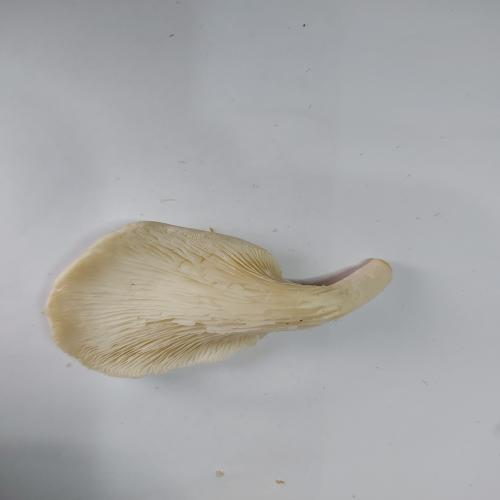Oyster Mushroom: (44, 219, 394, 379)
